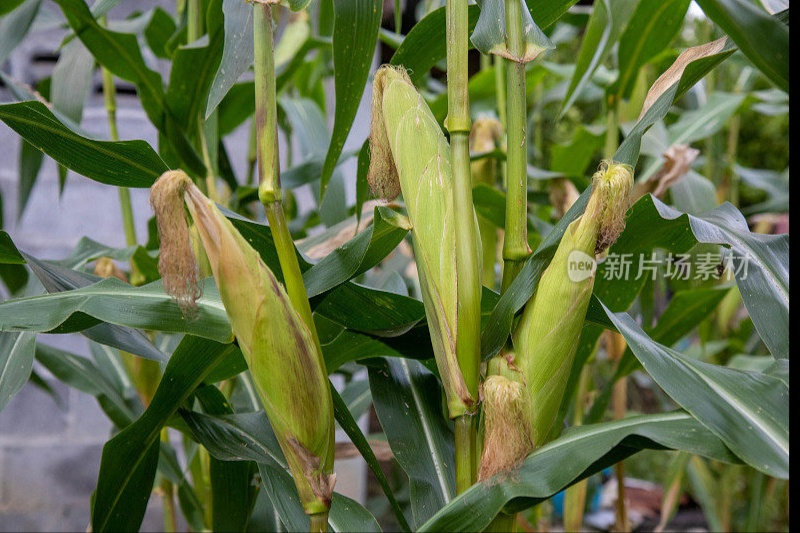corn_plant: (138, 164, 336, 504), (489, 153, 632, 477), (363, 68, 485, 415)
